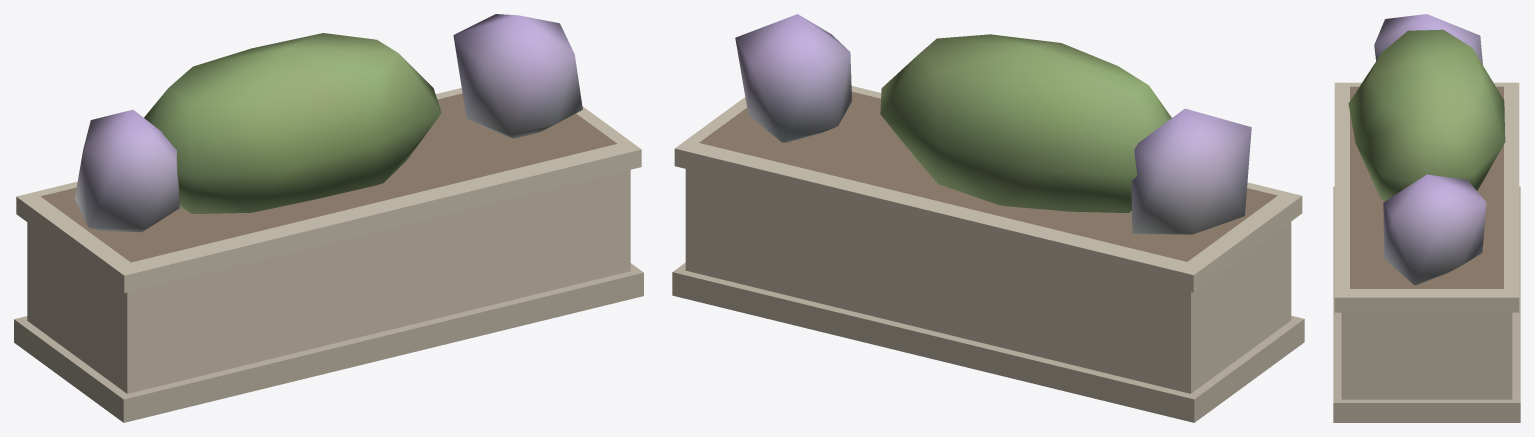
The model's file is SM_BM_BP_StonePlanter_B.glb.
3 renders of one model, left to right at view 1: azimuth 30°, elevation 25°; view 2: azimuth 150°, elevation 25°; view 3: azimuth 270°, elevation 25°, orthographic. The views are drawn at different scales.
Visible parts, largest first — view 1: SM_BM_BP_StonePlanter_B; view 2: SM_BM_BP_StonePlanter_B; view 3: SM_BM_BP_StonePlanter_B.
Part boxes in pixels (bbox=[...]): SM_BM_BP_StonePlanter_B: bbox=[14, 14, 643, 422]; SM_BM_BP_StonePlanter_B: bbox=[672, 14, 1304, 422]; SM_BM_BP_StonePlanter_B: bbox=[1333, 14, 1520, 422].
Size of the model in its own units: 1.86 by 0.96 by 0.68.
